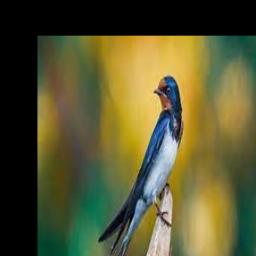Swallow: (98, 76, 182, 256)
